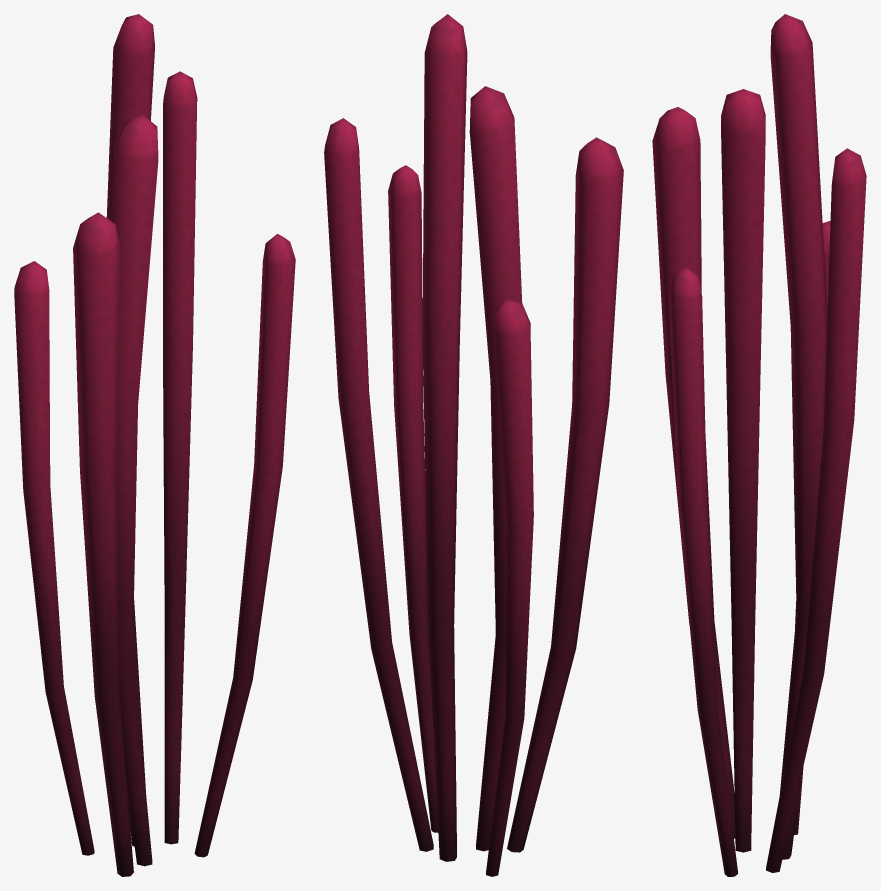
File: Coral_07b.FBX
3 renders of one model, left to right at view 1: azimuth 30°, elevation 25°; view 2: azimuth 150°, elevation 25°; view 3: azimuth 270°, elevation 25°, orthographic.
Parts seen in each view (by area): view 1: Coral_07b; view 2: Coral_07b; view 3: Coral_07b.
Part boxes in pixels (box(x1,y1,x2,y2)): Coral_07b: box(14, 14, 295, 876); Coral_07b: box(324, 14, 623, 876); Coral_07b: box(652, 14, 866, 876).
Size of the model in its own units: 21.77 by 79.19 by 18.23.
